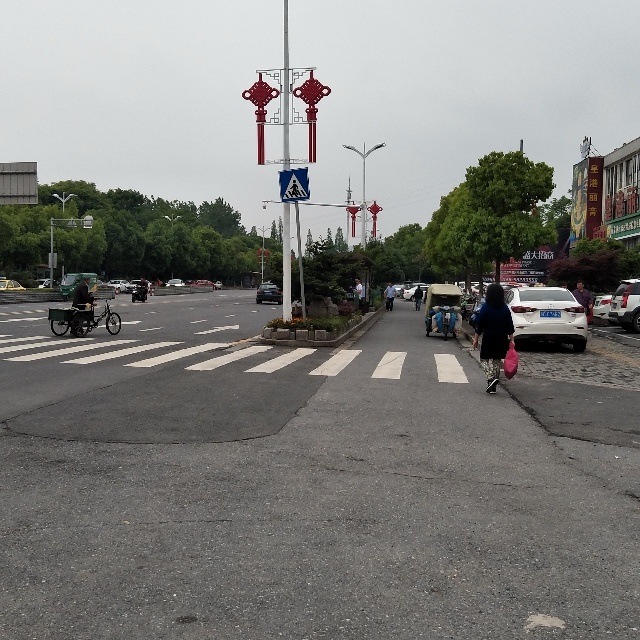crosswalk: (279, 168, 309, 203)
